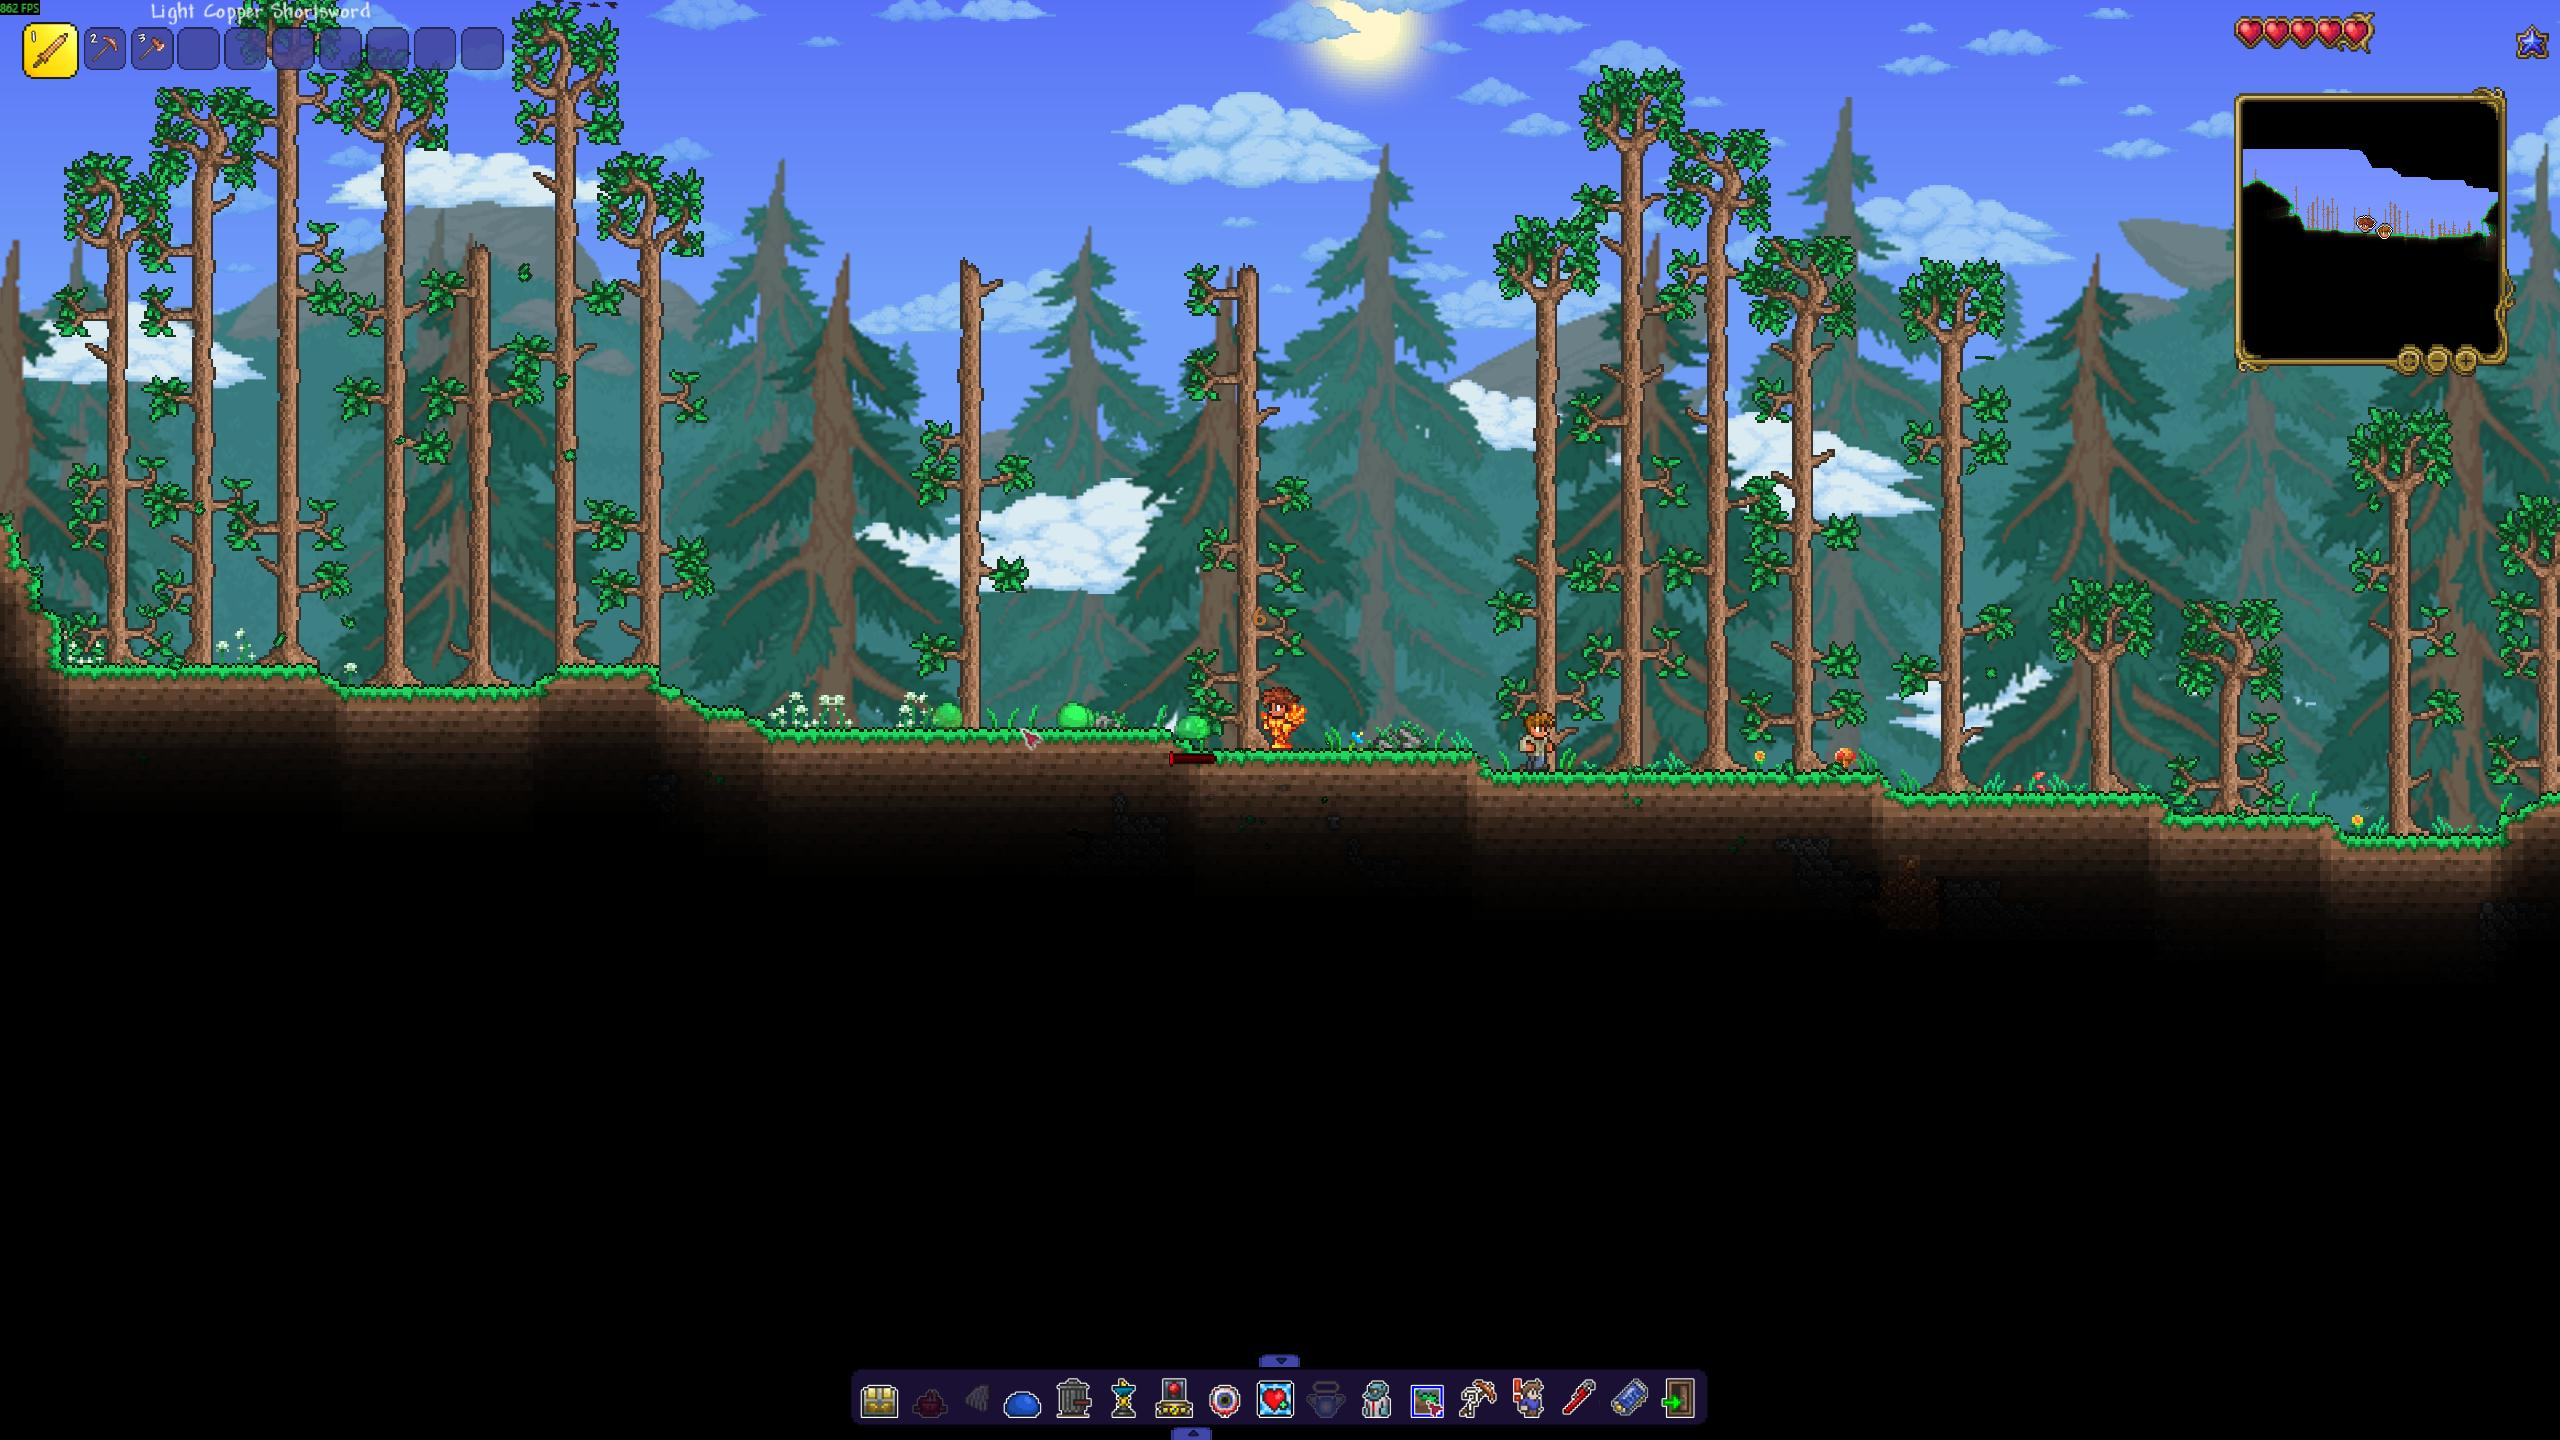Green Slime: (928, 700, 965, 733), (1171, 712, 1210, 744), (1055, 698, 1090, 731)
